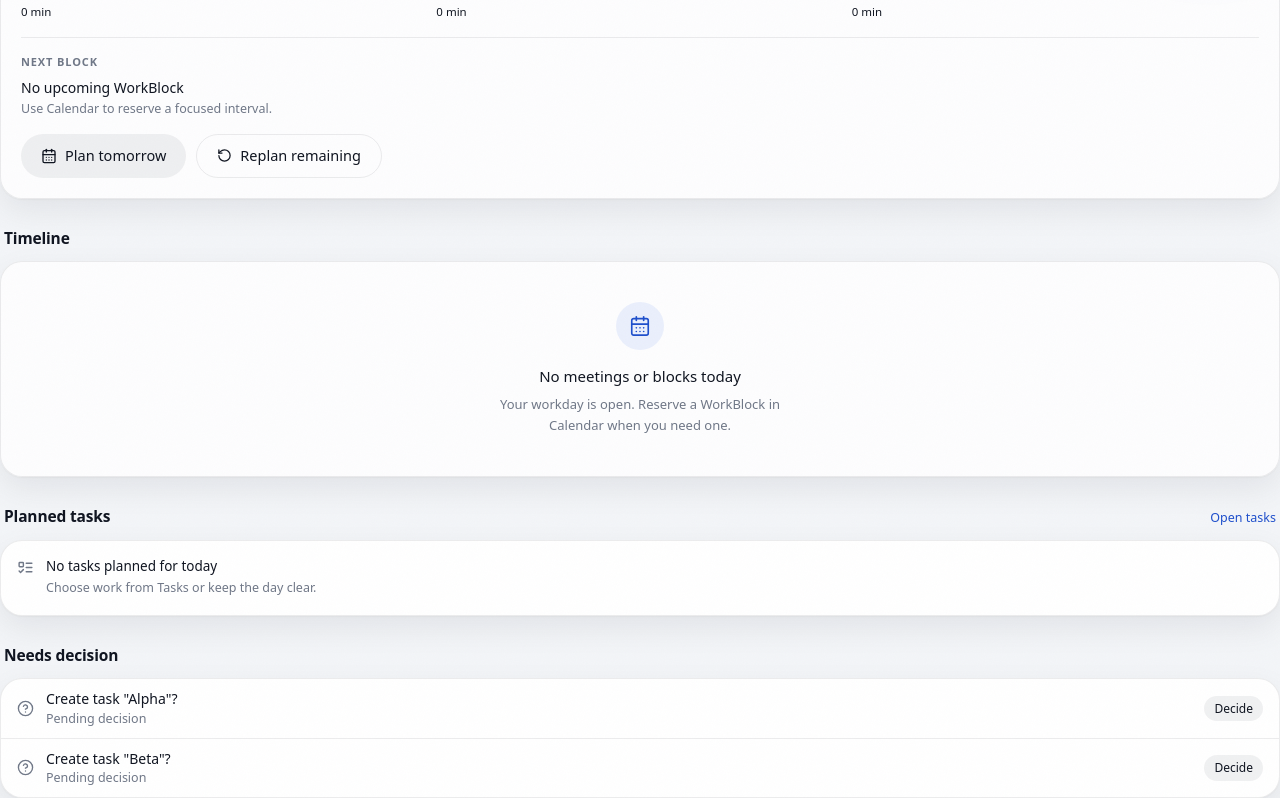
Test: TodayPage confirmation decisions › expands and collapses confirmation details inline without opening a sheet
(page scrolled)
Click the button "Create task \"Alpha\"? Pending decision Decide".
click(112, 699)  # box [1,679,1279,738]
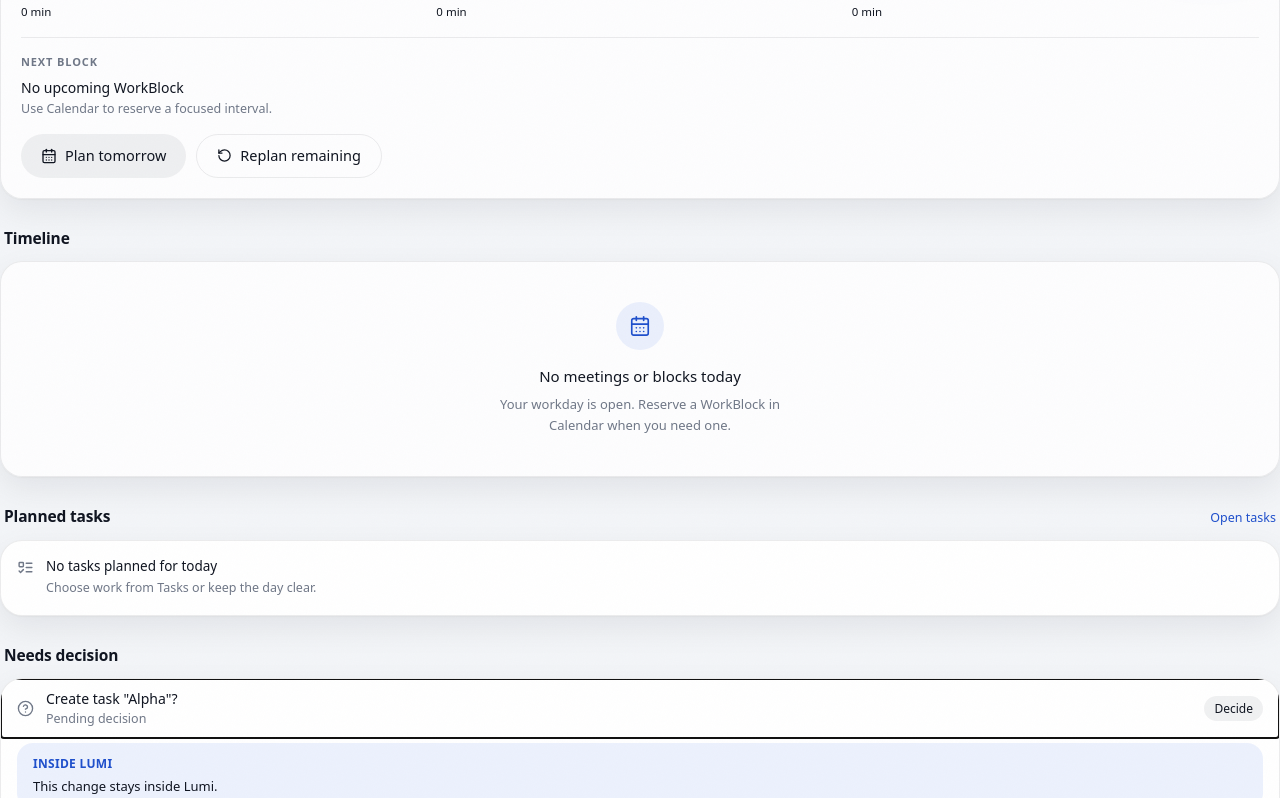
Expected: the text "This change stays inside Lumi." is shown, [33,777,218,795]
Click the button "Create task \"Alpha\"? Pending decision Decide".
click(112, 699)  # box [1,679,1279,738]
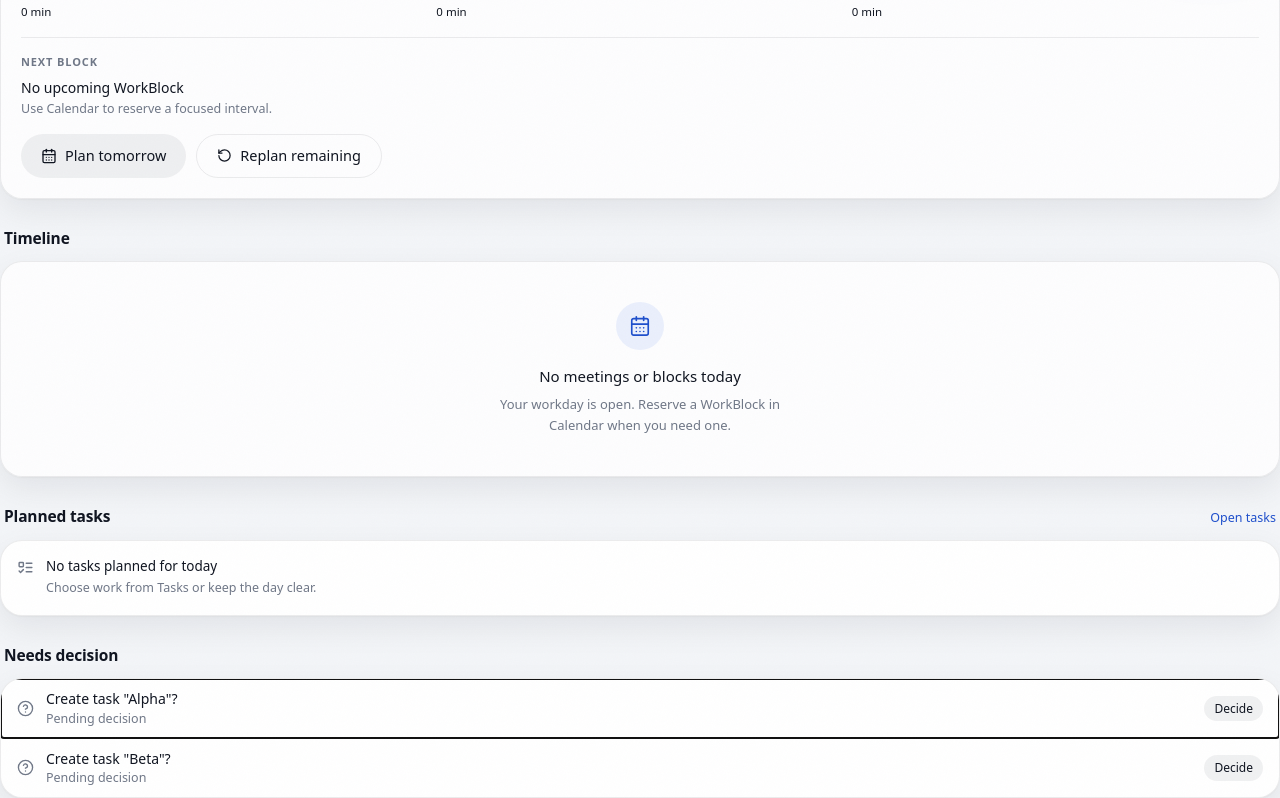
Expected: the text "This change stays inside Lumi." is gone
